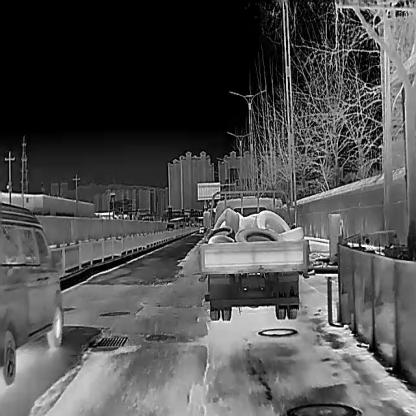car: (0, 200, 64, 384)
truck: (199, 189, 309, 320)
